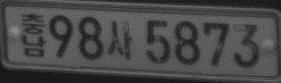3: (233, 24, 259, 67)
5: (145, 19, 170, 63)
7: (203, 21, 230, 66)
8: (78, 15, 104, 60), (174, 20, 200, 64)
9: (49, 13, 73, 56)
사: (108, 21, 133, 60)
충남_V: (21, 12, 46, 57)
